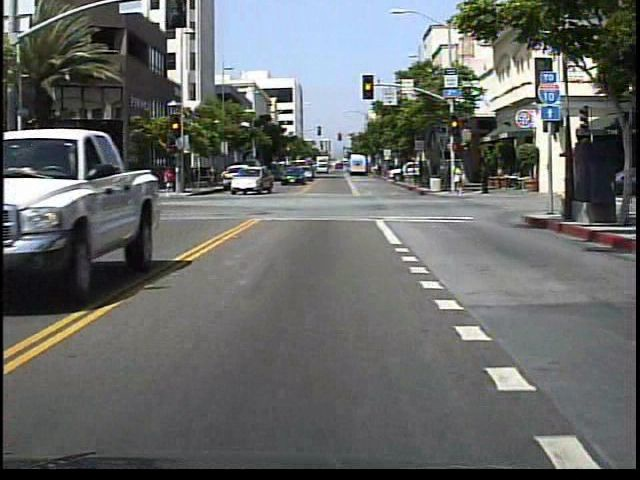person: (452, 161, 467, 197), (477, 160, 492, 195), (164, 165, 178, 196)
